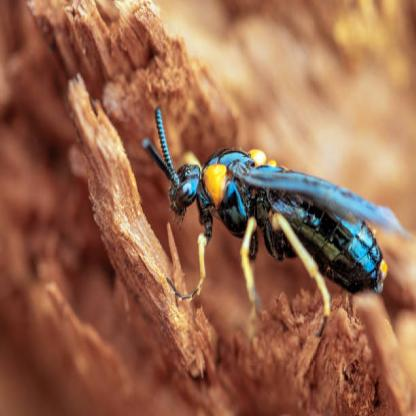sawfly: (145, 107, 406, 328)
